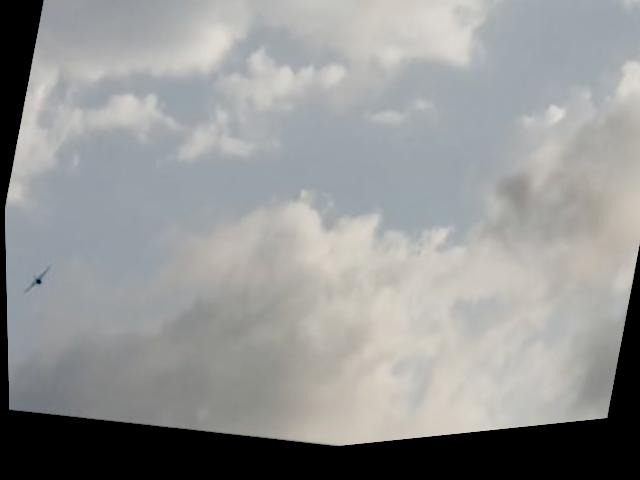uav: (11, 250, 61, 306)
